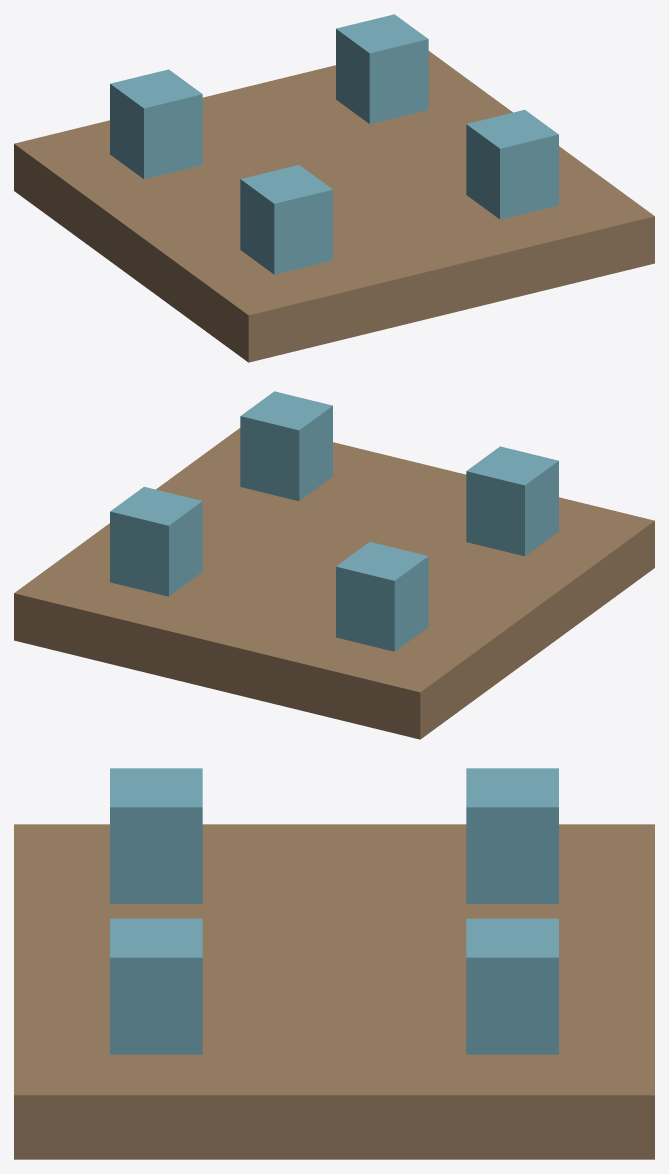
File: Prop_DS_Crop_Kelpweed_S1_V2.glb
3 views of the same model, one above another, from view 1: azimuth 30°, elevation 25°; view 2: azimuth 150°, elevation 25°; view 3: azimuth 270°, elevation 25° (orthographic). The views are drawn at different scales.
Visible parts, largest first — view 1: Prop_DS_Crop_Kelpweed_S1_V2; view 2: Prop_DS_Crop_Kelpweed_S1_V2; view 3: Prop_DS_Crop_Kelpweed_S1_V2.
Boxes of the visible parts, x1,y1,x2,y2 form: Prop_DS_Crop_Kelpweed_S1_V2: (14,14,654,362); Prop_DS_Crop_Kelpweed_S1_V2: (14,391,654,739); Prop_DS_Crop_Kelpweed_S1_V2: (14,768,654,1159).
Bounding box in the file's own units: 0.9 × 0.25 × 0.9.
